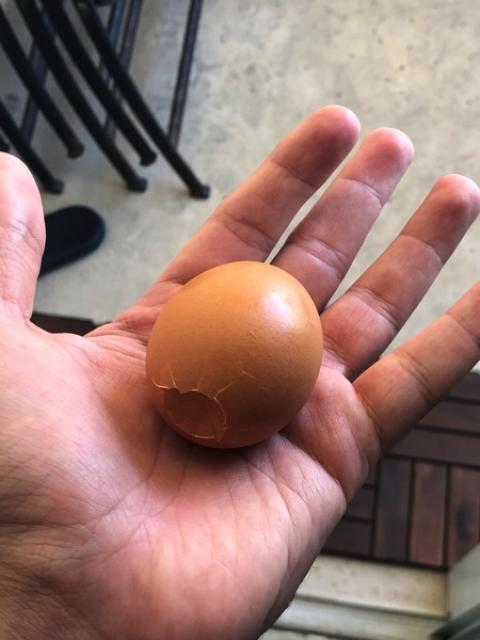Roto: (144, 259, 324, 449)
